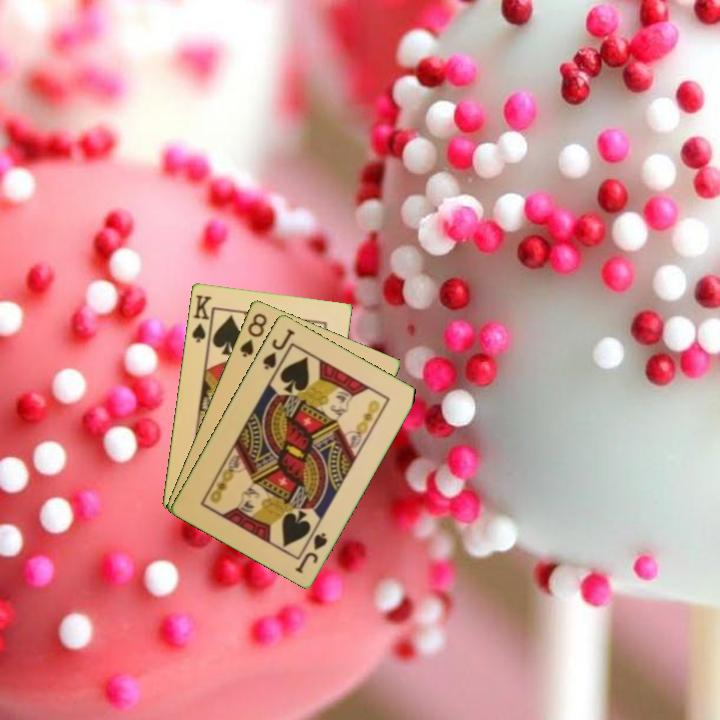8s: (236, 309, 270, 360)
Js: (259, 325, 298, 373), (291, 528, 330, 576)
Ks: (188, 291, 215, 346)
